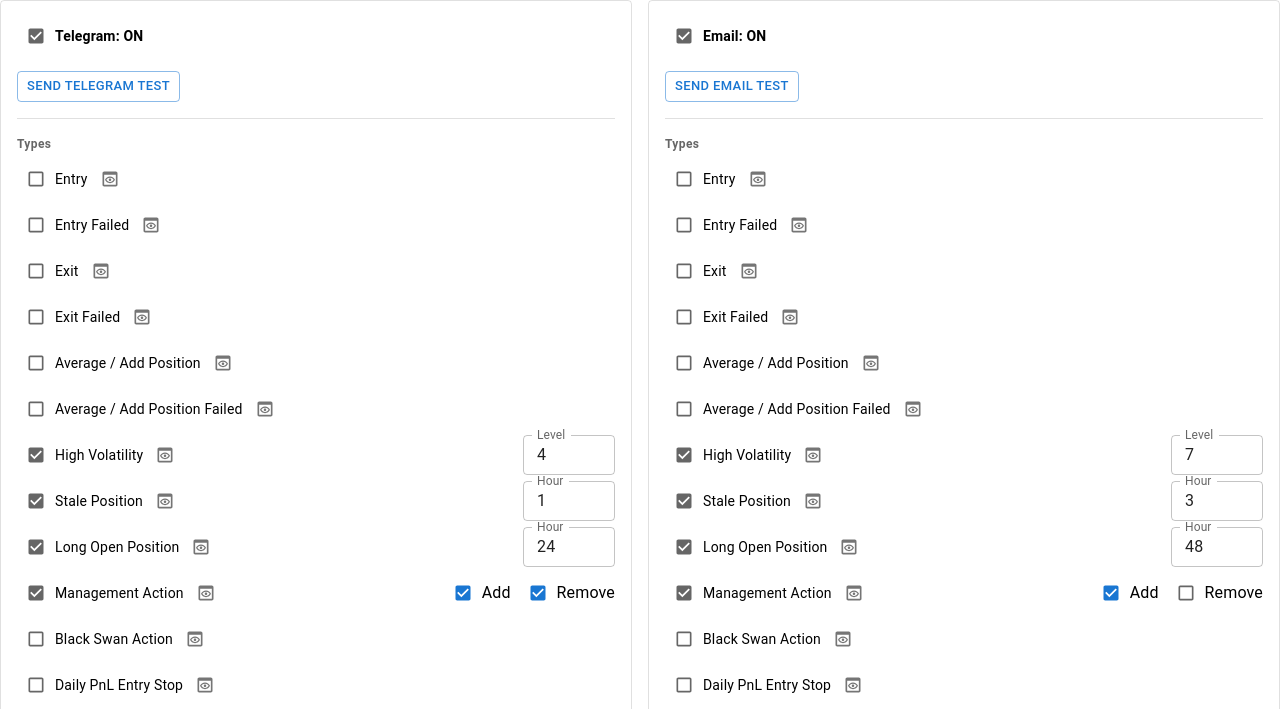
Test case: SettingsDialogNotificationTab › previews representative notification content without sending it
This screenshot has width=1280, height=709.
Click the button named "Telegram Black Swan Action notification example" at [195, 639], box [173,617,217,661]
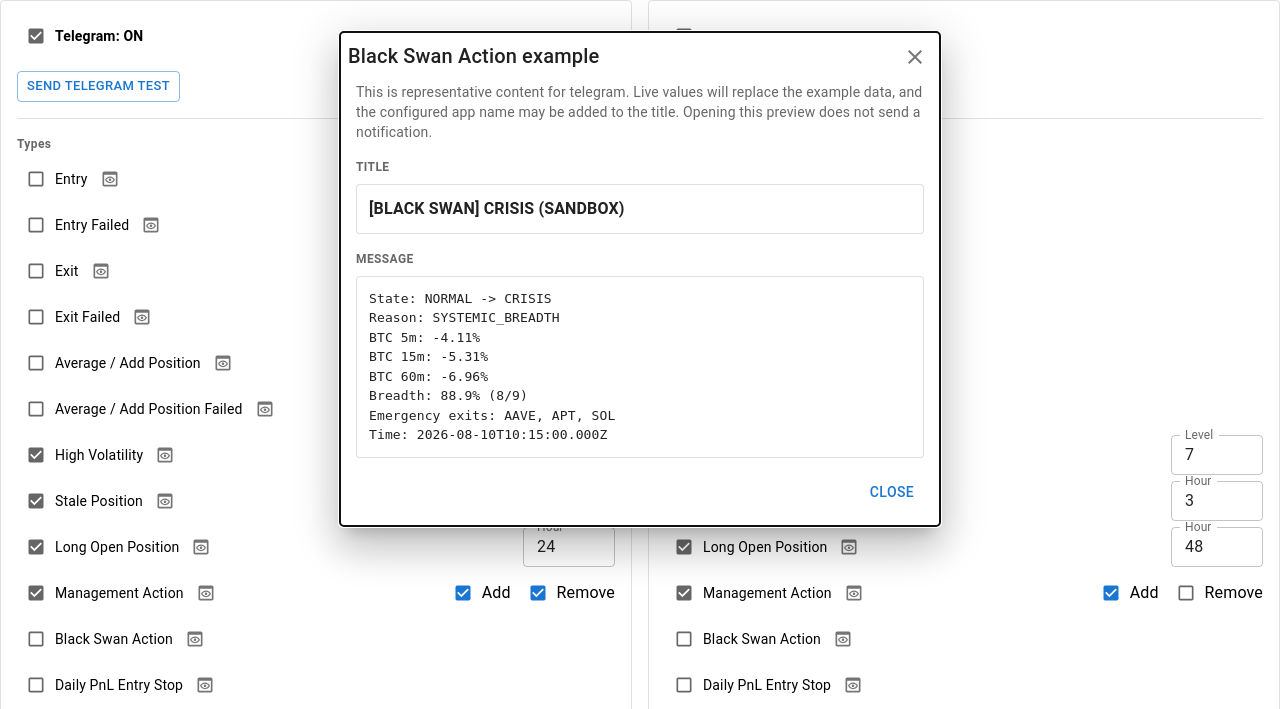
Check: the text "Black Swan Action example" is shown, box [348,40,599,74]
Check: the text "[BLACK SWAN] CRISIS (SANDBOX)" is shown, box [369,199,625,218]
Check: the text "Reason: SYSTEMIC_BREADTH" is shown, box [369,291,615,442]
Click the button "Close" at [892, 492], box [860,474,924,510]
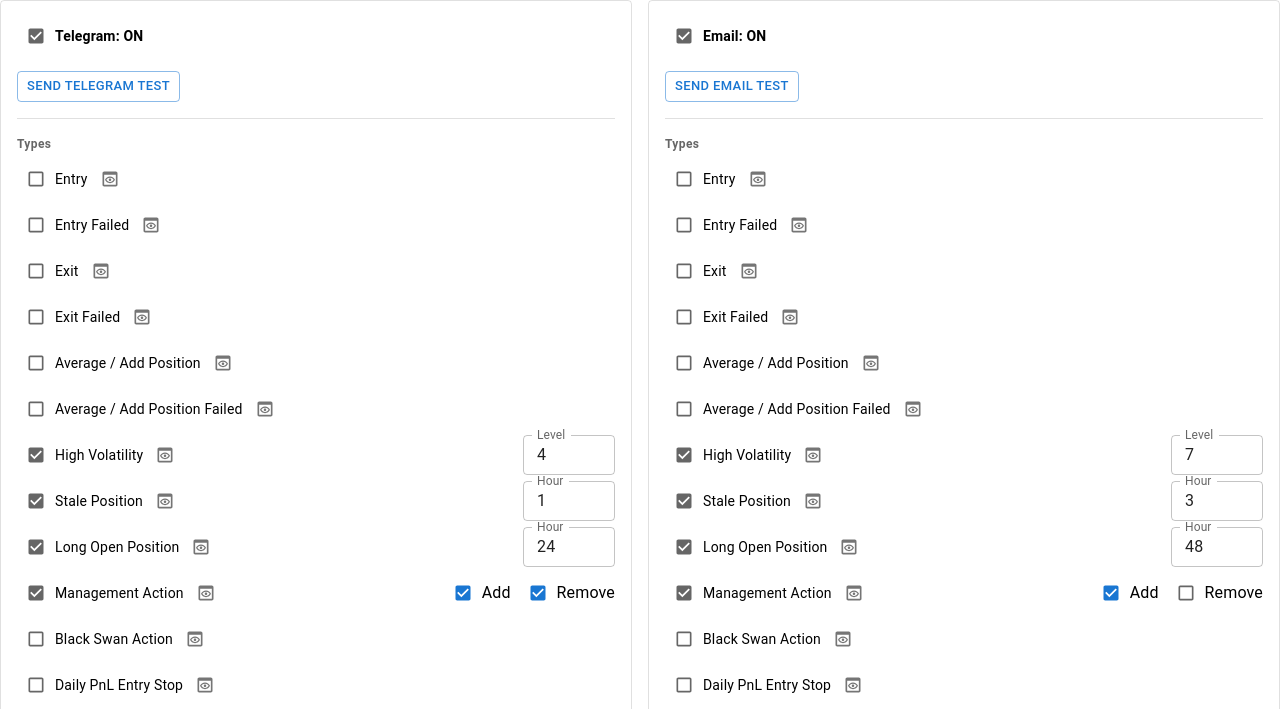
Check: the text "Black Swan Action example" is gone
